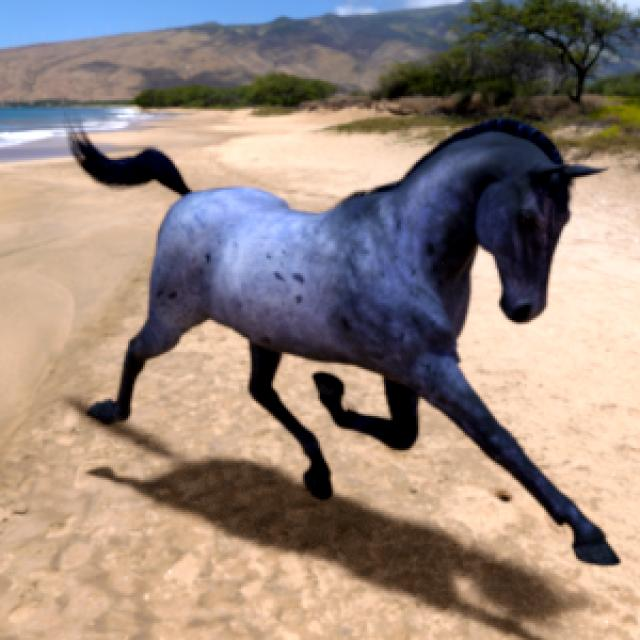horse: (70, 120, 615, 562)
